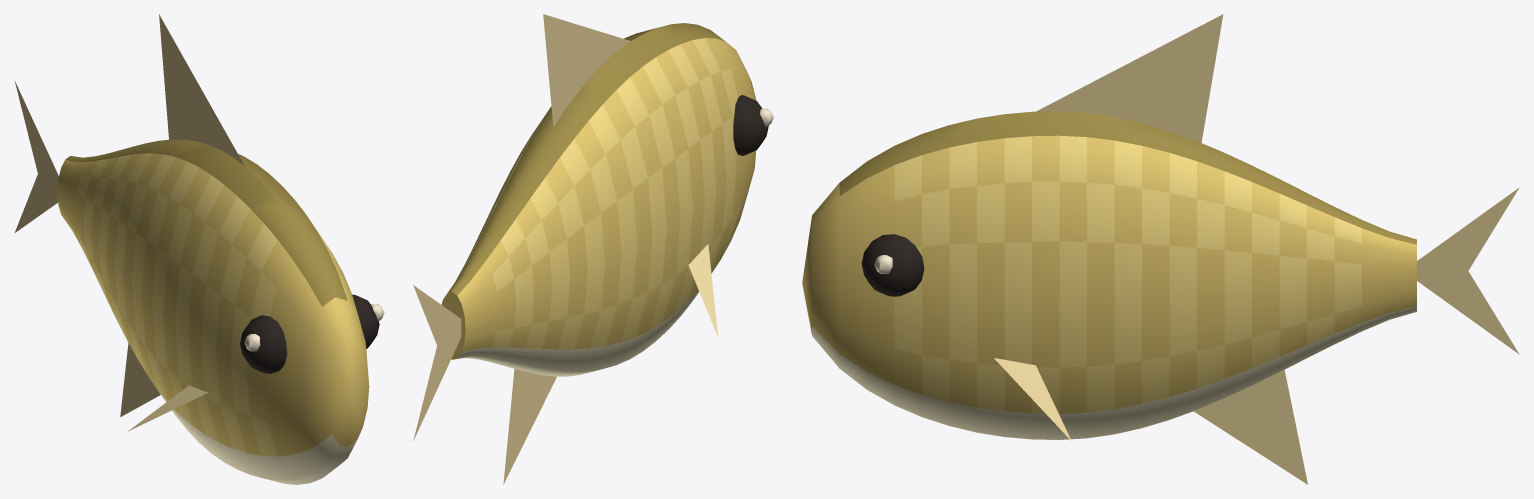
Rendered from golden_shiner.fbx.
The picture shows the model from 3 angles, left to right: view 1: azimuth 30°, elevation 25°; view 2: azimuth 150°, elevation 25°; view 3: azimuth 270°, elevation 25°; orthographic projection. The views are drawn at different scales.
Visible parts, largest first — view 1: Fish_golden_shiner_EXP; view 2: Fish_golden_shiner_EXP; view 3: Fish_golden_shiner_EXP.
Boxes of the visible parts, x1,y1,x2,y2 form: Fish_golden_shiner_EXP: (14,14,384,484); Fish_golden_shiner_EXP: (413,14,773,484); Fish_golden_shiner_EXP: (802,14,1519,484).
Bounding box in the file's own units: 0.0933 × 0.189 × 0.261.
